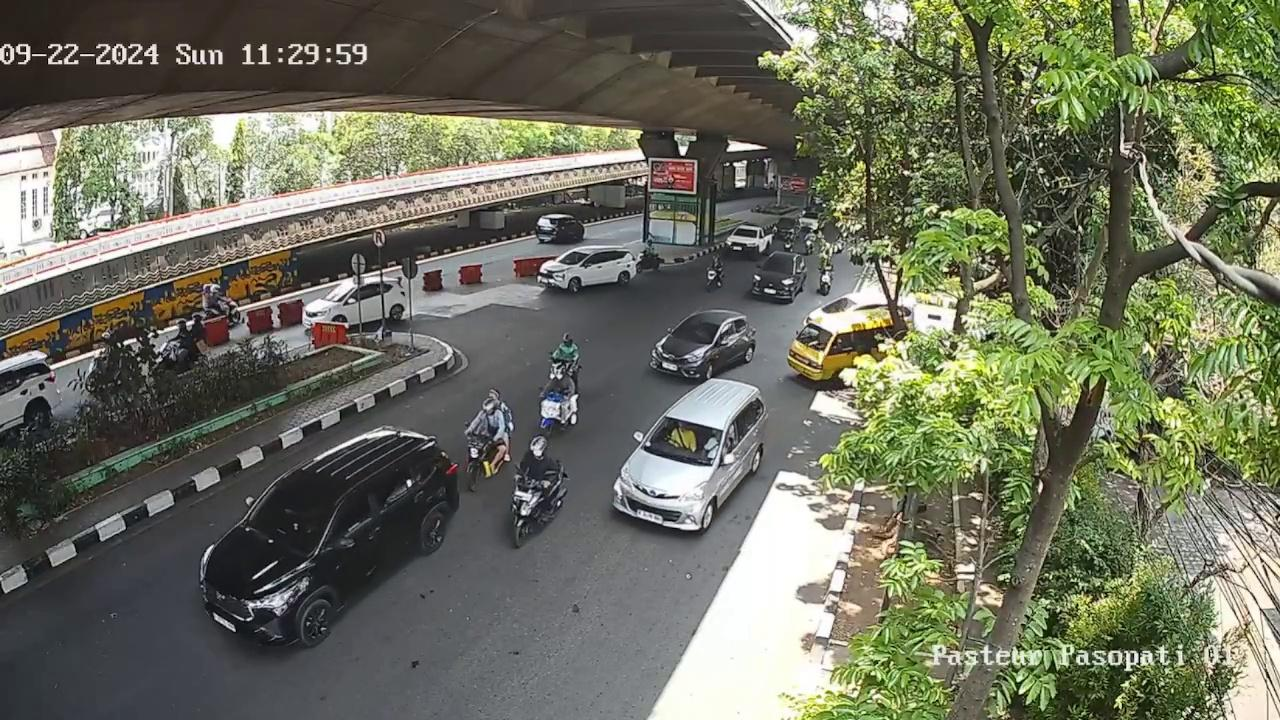pakai: (671, 421, 694, 451), (702, 434, 723, 456)
windshield: (239, 479, 342, 552), (633, 413, 726, 463), (667, 315, 718, 349)
